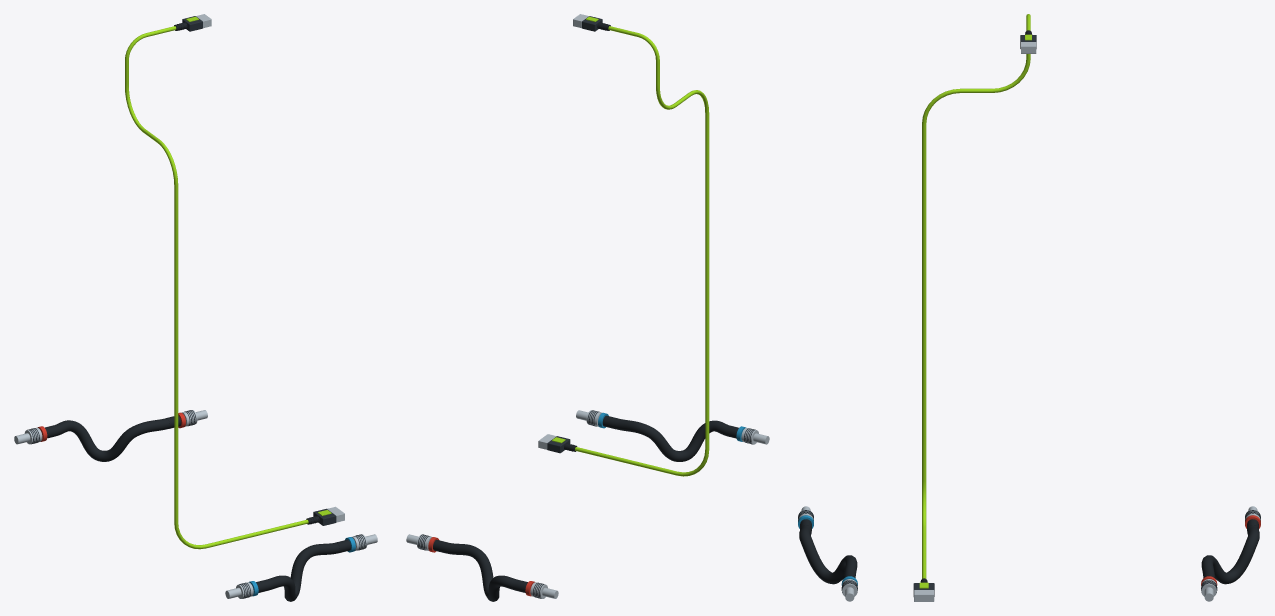
The model's file is SM_GJ_Harness_09.fbx.
The picture shows the model from 3 angles, left to right: view 1: azimuth 30°, elevation 25°; view 2: azimuth 150°, elevation 25°; view 3: azimuth 270°, elevation 25°; orthographic projection. The views are drawn at different scales.
Visible parts, largest first — view 1: SM_GJ_Harness_09; view 2: SM_GJ_Harness_09; view 3: SM_GJ_Harness_09.
Boxes of the visible parts, x1,y1,x2,y2 form: SM_GJ_Harness_09: (14,14,377,601); SM_GJ_Harness_09: (406,14,769,601); SM_GJ_Harness_09: (798,14,1260,601).
Bounding box in the file's own units: 22.6 × 50.76 × 65.7.
